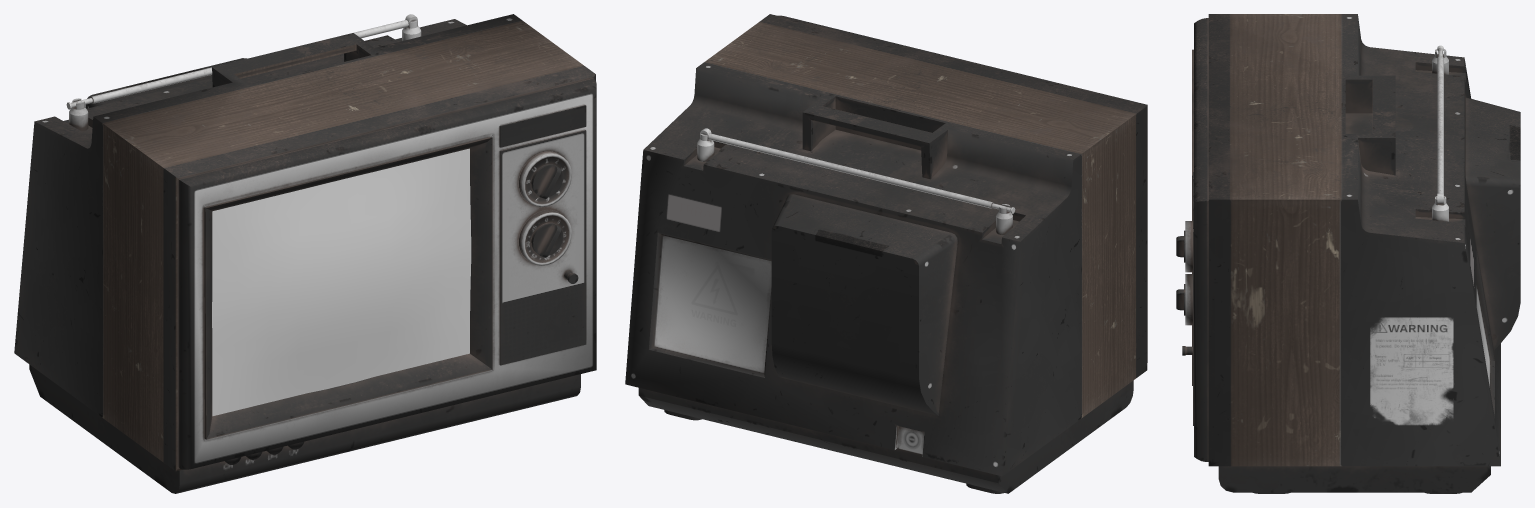
3 renders of one model, left to right at view 1: azimuth 30°, elevation 25°; view 2: azimuth 150°, elevation 25°; view 3: azimuth 270°, elevation 25°, orthographic. The views are drawn at different scales.
Parts seen in each view (by area): view 1: Television_01; view 2: Television_01; view 3: Television_01.
Part boxes in pixels (x1,y1,x2,y2): Television_01: [14, 14, 596, 493]; Television_01: [625, 14, 1147, 493]; Television_01: [1176, 14, 1520, 493].
Bounding box in the file's own units: 60 × 45.68 × 47.08.
